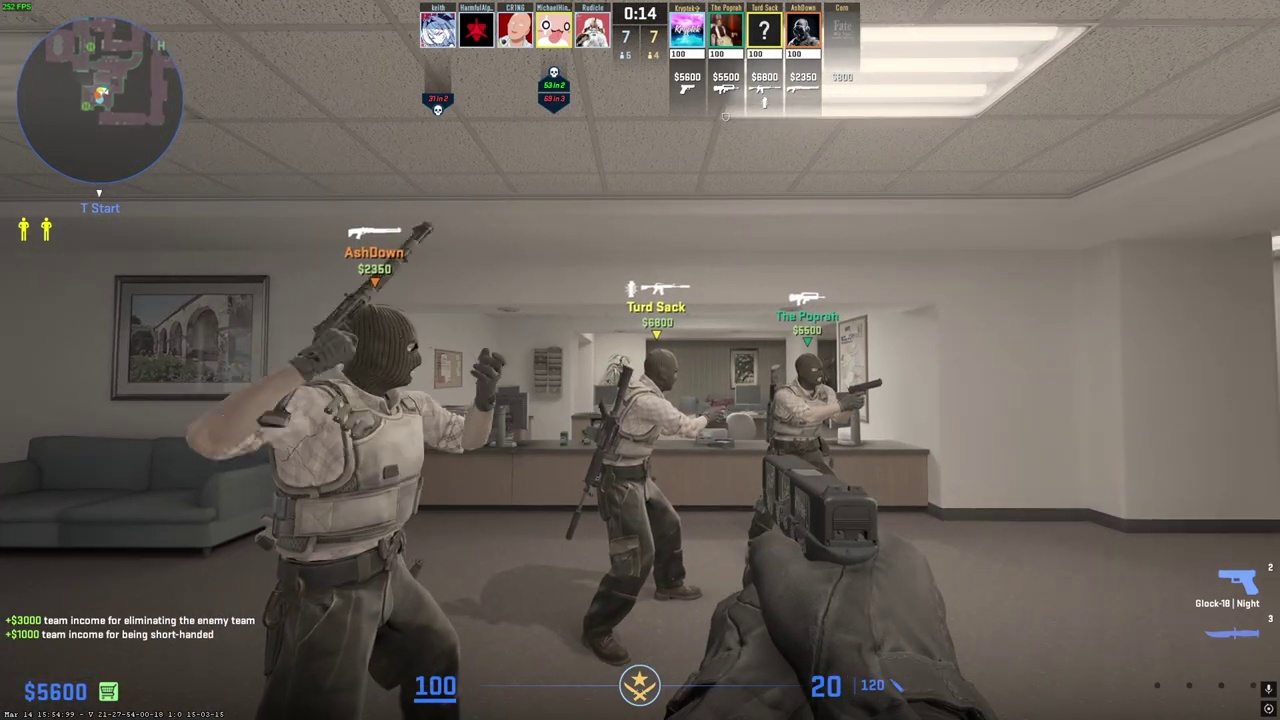Terrorist: (243, 304, 474, 720), (583, 349, 704, 665), (768, 352, 842, 471)
